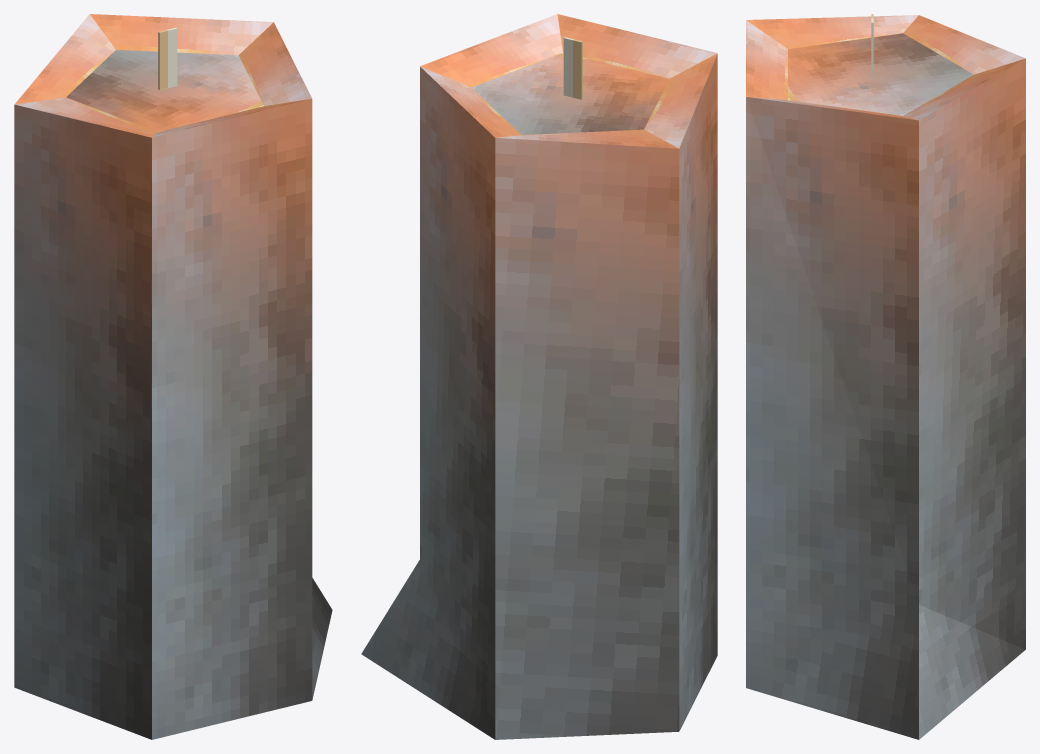
File: candle0.glb
3 renders of one model, left to right at view 1: azimuth 30°, elevation 25°; view 2: azimuth 150°, elevation 25°; view 3: azimuth 270°, elevation 25°, orthographic.
Visible parts, largest first — view 1: candle0; view 2: candle0; view 3: candle0.
Part boxes in pixels (x1,y1,x2,y2): candle0: (14,14,332,739); candle0: (361,14,717,739); candle0: (746,14,1025,739).
Size of the model in its own units: 0.0467 by 0.0901 by 0.0362.
Materials: 1 (1 with a texture image).
